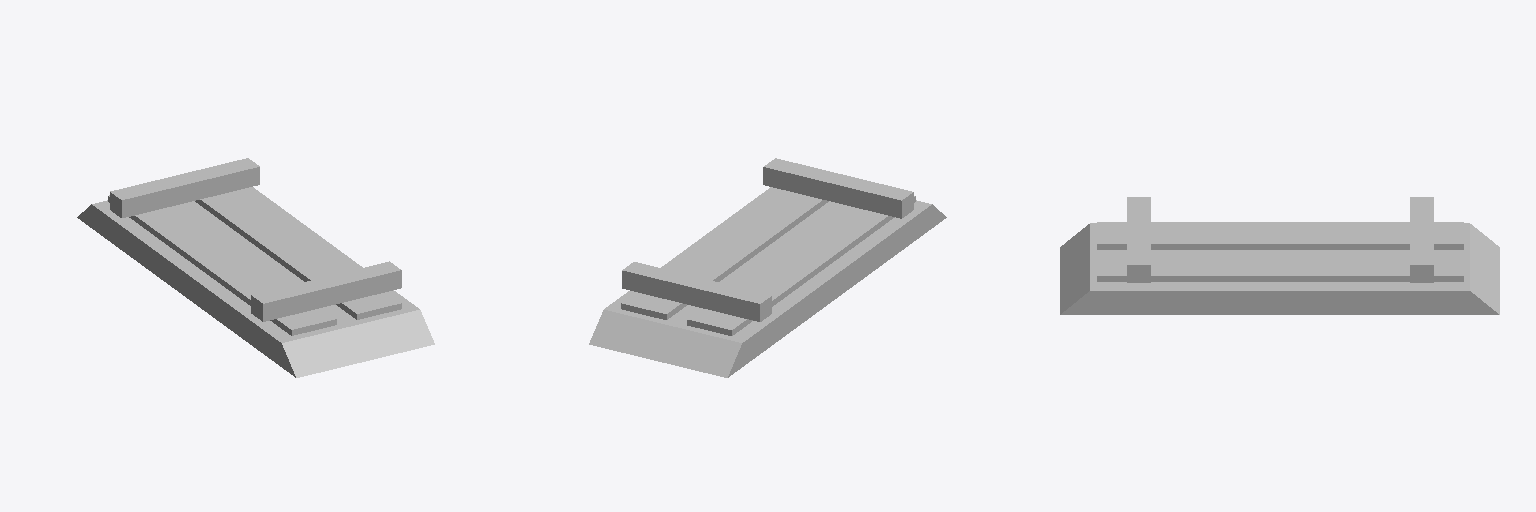
The model's file is single.obj.
3 renders of one model, left to right at view 1: azimuth 30°, elevation 25°; view 2: azimuth 150°, elevation 25°; view 3: azimuth 270°, elevation 25°, orthographic.
Visible parts, largest first — view 1: Mesh_Cube.001, Plane; view 2: Mesh_Cube.001, Plane; view 3: Mesh_Cube.001, Plane.
Part boxes in pixels (left/top/right/bottom): Mesh_Cube.001: left=108, top=158, right=401, bottom=335; Plane: left=77, top=187, right=434, bottom=377; Mesh_Cube.001: left=621, top=158, right=915, bottom=335; Plane: left=589, top=187, right=946, bottom=377; Mesh_Cube.001: left=1097, top=197, right=1463, bottom=282; Plane: left=1060, top=223, right=1499, bottom=314.
Size of the model in its own units: 1 by 0.3453 by 2.75.